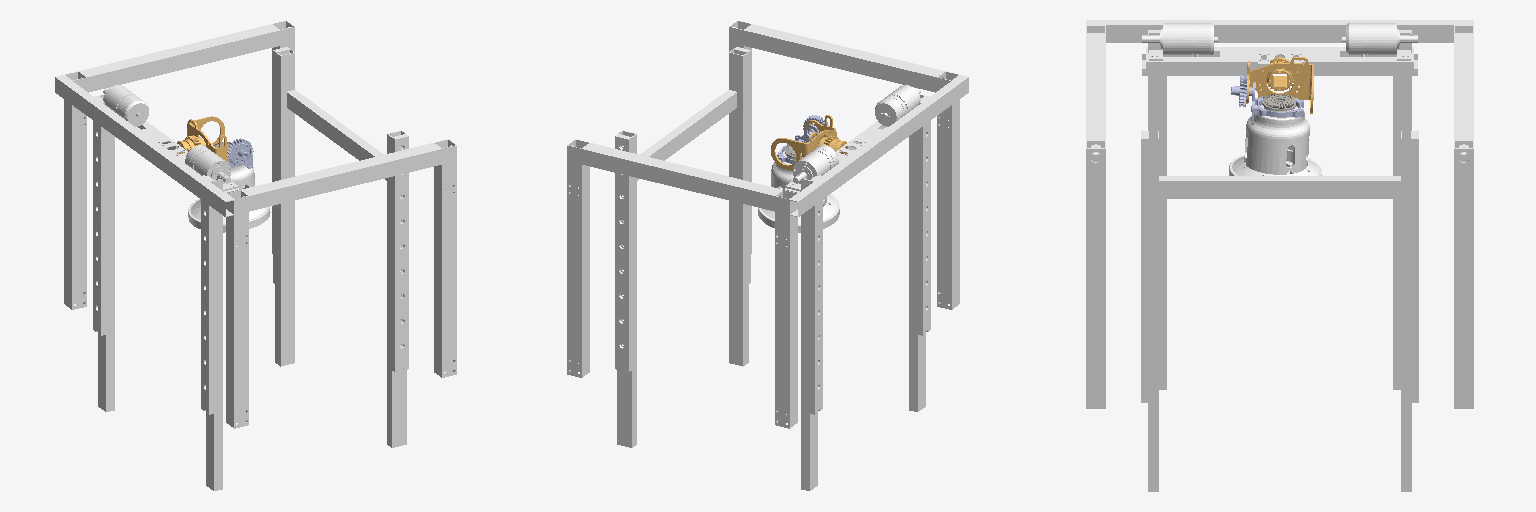
URDF robot description (robot):
<?xml version="1.0" encoding="utf-8" ?>
<!-- This URDF was automatically created by SolidWorks to URDF Exporter! Originally created by [author] ([email redacted]) 
     Commit Version: 1.6.0-4-g7f85cfe  Build Version: 1.6.7995.38578
     For more information, please see http://wiki.ros.org/sw_urdf_exporter -->
<robot name="robot">
    <link name="origin_global">
        <inertial>
            <origin xyz="0 0 0" rpy="0 0 0" />
            <mass value="0.001" />
            <inertia ixx="0" ixy="0" ixz="0" iyy="0" iyz="0" izz="0" />
        </inertial>
    </link>
    <link name="car_lr">
        <inertial>
            <origin xyz="0 0 0" rpy="0 0 0" />
            <mass value="0.001" />
            <inertia ixx="0" ixy="0" ixz="0" iyy="0" iyz="0" izz="0" />
        </inertial>
    </link>
    <joint name="origin_global2car_lr" type="prismatic">
        <origin xyz="-0.044 0 0" rpy="0 0 0" />
        <parent link="origin_global" />
        <child link="car_lr" />
        <axis xyz="0 1 0" />
        <limit lower="-10" upper="10" effort="0" velocity="3" />
        <dynamics damping="0.1" friction="20"/>
    </joint>
    <link name="car_fb">
        <inertial>
            <origin xyz="0 0 0" rpy="0 0 0" />
            <mass value="0.001" />
            <inertia ixx="0" ixy="0" ixz="0" iyy="0" iyz="0" izz="0" />
        </inertial>
    </link>
    <joint name="car_lr2car_fb" type="prismatic">
        <origin xyz="0 0 0" rpy="0 0 0" />
        <parent link="car_lr" />
        <child link="car_fb" />
        <axis xyz="1 0 0" />
        <limit lower="-10" upper="10" effort="0" velocity="3" />
        <dynamics damping="0.1" friction="20"/>
    </joint>
    <link name="car_yaw">
        <inertial>
            <origin xyz="0 0 0" rpy="0 0 0" />
            <mass value="0.001" />
            <inertia ixx="0" ixy="0" ixz="0" iyy="0" iyz="0" izz="0" />
        </inertial>
    </link>
    <joint name="car_fb2car_yaw" type="continuous">
        <origin xyz="0 0 0" rpy="0 0 0" />
        <parent link="car_fb" />
        <child link="car_yaw" />
        <axis xyz="0.0 0.0 -1.0" />
        <limit lower="0" upper="0" effort="0" velocity="0" />
        <dynamics damping="0.1" friction="20"/>
    </joint>
    <link name="base_link">
        <inertial>
            <origin xyz="0.021509 -1.2254E-10 -0.00040386" rpy="0 0 0" />
            <mass value="0.001" />
            <inertia ixx="0.0023256" ixy="-1.2261E-08" ixz="-9.0418E-13" iyy="0.0065804" iyz="1.2224E-13" izz="0.005007" />
        </inertial>
        <visual>
            <origin xyz="0 0 0" rpy="0 0 0" />
            <geometry>
                <mesh filename="package://robot_description5/meshes/base_link.STL" />
            </geometry>
            <material name="">
                <color rgba="0.89804 0.91765 0.92941 1" />
            </material>
        </visual>
        <collision>
            <origin xyz="0 0 0" rpy="0 0 0" />
            <geometry>
                <mesh filename="package://robot_description5/meshes/base_link.STL" />
            </geometry>
        </collision>
    </link>
    <joint name="car_yaw2base_link" type="fixed">
        <origin xyz="0 0 0" rpy="0 0 0" />
        <parent link="car_yaw" />
        <child link="base_link" />
        <axis xyz="0 0 0" />
        <dynamics damping="0.1" friction="20"/>
    </joint>
    <link name="ud_fixed">
        <inertial>
            <origin xyz="-0.1611 -0.17 0.041823" rpy="0 0 0" />
            <mass value="0.001" />
            <inertia ixx="0.0082957" ixy="1.9272E-20" ixz="-1.3866E-08" iyy="0.0081079" iyz="1.3549E-18" izz="0.00023148" />
        </inertial>
        <visual>
            <origin xyz="0 0 0" rpy="0 0 0" />
            <geometry>
                <mesh filename="package://robot_description5/meshes/ud_fixed.STL" />
            </geometry>
            <material name="">
                <color rgba="1 1 1 1" />
            </material>
        </visual>
        <collision>
            <origin xyz="0 0 0" rpy="0 0 0" />
            <geometry>
                <mesh filename="package://robot_description5/meshes/ud_fixed.STL" />
            </geometry>
        </collision>
    </link>
    <joint name="base_link2ud_fixed" type="fixed">
        <origin xyz="0.1817 0.17 0.253" rpy="0 0 0" />
        <parent link="base_link" />
        <child link="ud_fixed" />
        <axis xyz="0 0 0" />
        <dynamics damping="0.1" friction="20"/>
    </joint>
    <link name="ud_move">
        <inertial>
            <origin xyz="-0.21827 -0.249 0.071024" rpy="0 0 0" />
            <mass value="0.001" />
            <inertia ixx="0.0023611" ixy="7.1456E-21" ixz="-1.3757E-20" iyy="0.0021234" iyz="-4.2205E-21" izz="0.0013657" />
        </inertial>
        <visual>
            <origin xyz="0 0 0" rpy="0 0 0" />
            <geometry>
                <mesh filename="package://robot_description5/meshes/ud_move.STL" />
            </geometry>
            <material name="">
                <color rgba="1 1 1 1" />
            </material>
        </visual>
        <collision>
            <origin xyz="0 0 0" rpy="0 0 0" />
            <geometry>
                <mesh filename="package://robot_description5/meshes/ud_move.STL" />
            </geometry>
        </collision>
    </link>
    <joint name="ud_fixed2ud_move" type="prismatic">
        <origin xyz="0.039 0.079 0.07" rpy="0 0 0" />
        <parent link="ud_fixed" />
        <child link="ud_move" />
        <axis xyz="0 0 1" />
        <limit lower="0" upper="0.3" effort="0" velocity="3" />
        <dynamics damping="0.1" friction="20"/>
    </joint>
    <link name="fb_move">
        <inertial>
            <origin xyz="-0.16962 -0.185 -0.018823" rpy="0 0 0" />
            <mass value="0.001" />
            <inertia ixx="0.0005007" ixy="-1.1793E-14" ixz="-8.5853E-08" iyy="5.291E-05" iyz="5.0212E-15" izz="0.00050986" />
        </inertial>
        <visual>
            <origin xyz="0 0 0" rpy="0 0 0" />
            <geometry>
                <mesh filename="package://robot_description5/meshes/fb_move.STL" />
            </geometry>
            <material name="">
                <color rgba="1 1 1 1" />
            </material>
        </visual>
        <collision>
            <origin xyz="0 0 0" rpy="0 0 0" />
            <geometry>
                <mesh filename="package://robot_description5/meshes/fb_move.STL" />
            </geometry>
        </collision>
    </link>
    <joint name="ud_move2fb_move" type="prismatic">
        <origin xyz="-0.175 -0.064 0.192" rpy="0 0 0" />
        <parent link="ud_move" />
        <child link="fb_move" />
        <axis xyz="1 0 0" />
        <limit lower="0" upper="0.3" effort="0" velocity="3" />
        <dynamics damping="0.1" friction="20"/>
    </joint>
    <link name="roll_link">
        <inertial>
            <origin xyz="-0.0079761 0.0020985 -0.0010533" rpy="0 0 0" />
            <mass value="0.001" />
            <inertia ixx="8.5742E-05" ixy="-1.1174E-06" ixz="-1.6213E-06" iyy="3.7862E-05" iyz="1.3618E-06" izz="7.7028E-05" />
        </inertial>
        <visual>
            <origin xyz="0 0 0" rpy="0 0 0" />
            <geometry>
                <mesh filename="package://robot_description5/meshes/roll_link.STL" />
            </geometry>
            <material name="">
                <color rgba="1 0.80784 0.49804 1" />
            </material>
        </visual>
        <collision>
            <origin xyz="0 0 0" rpy="0 0 0" />
            <geometry>
                <mesh filename="package://robot_description5/meshes/roll_link.STL" />
            </geometry>
        </collision>
    </link>
    <joint name="fb_move2roll_link" type="revolute">
        <origin xyz="-0.109 -0.185 -0.0445" rpy="0 0 0" />
        <parent link="fb_move" />
        <child link="roll_link" />
        <axis xyz="-1 0 0" />
        <limit lower="-3.14" upper="3.14" effort="0" velocity="3" />
        <dynamics damping="0.1" friction="20"/>
    </joint>
    <link name="pitch_Link">
        <inertial>
            <origin xyz="0.00023863 -0.0036836 -0.0060035" rpy="0 0 0" />
            <mass value="0.001" />
            <inertia ixx="1.5065E-05" ixy="-1.7625E-08" ixz="-3.3721E-07" iyy="1.8379E-05" iyz="1.4059E-07" izz="2.1065E-05" />
        </inertial>
        <visual>
            <origin xyz="0 0 0" rpy="0 0 0" />
            <geometry>
                <mesh filename="package://robot_description5/meshes/pitch_Link.STL" />
            </geometry>
            <material name="">
                <color rgba="0.79216 0.81961 0.93333 1" />
            </material>
        </visual>
        <collision>
            <origin xyz="0 0 0" rpy="0 0 0" />
            <geometry>
                <mesh filename="package://robot_description5/meshes/pitch_Link.STL" />
            </geometry>
        </collision>
    </link>
    <joint name="roll_link2pitch_link" type="revolute">
        <origin xyz="0.035 -0.031956 0.0016682" rpy="0 0 0" />
        <parent link="roll_link" />
        <child link="pitch_Link" />
        <axis xyz="0 -0.99864 0.05213" />
        <limit lower="0" upper="3.14" effort="0" velocity="3" />
        <dynamics damping="0.1" friction="20"/>
    </joint>
    <link name="yaw_Link">
        <inertial>
            <origin xyz="0.00010063 -0.00010565 -0.0020239" rpy="0 0 0" />
            <mass value="0.001" />
            <inertia ixx="3.7305E-06" ixy="-9.4257E-09" ixz="-1.8056E-07" iyy="3.7314E-06" iyz="1.8957E-07" izz="7.3531E-06" />
        </inertial>
        <visual>
            <origin xyz="0 0 0" rpy="0 0 0" />
            <geometry>
                <mesh filename="package://robot_description5/meshes/yaw_Link.STL" />
            </geometry>
            <material name="">
                <color rgba="0.77647 0.75686 0.73725 1" />
            </material>
        </visual>
        <collision>
            <origin xyz="0 0 0" rpy="0 0 0" />
            <geometry>
                <mesh filename="package://robot_description5/meshes/yaw_Link.STL" />
            </geometry>
        </collision>
    </link>
    <joint name="pitch_link2yaw_link" type="revolute">
        <origin xyz="0.00049592 0.031436 -0.011642" rpy="0 0 0" />
        <parent link="pitch_Link" />
        <child link="yaw_Link" />
        <axis xyz="0.049592 -0.052066 -0.99741" />
        <limit lower="-3.14" upper="3.14" effort="0" velocity="3" />
        <dynamics damping="0.1" friction="20"/>
    </joint>
    <link name="hand">
        <inertial>
            <origin xyz="-0.0019754 0.0022643 0.04645" rpy="0 0 0" />
            <mass value="0.001" />
            <inertia ixx="0.00041044" ixy="1.4842E-06" ixz="4.9661E-06" iyy="0.00041247" iyz="-5.0769E-06" izz="0.00031835" />
        </inertial>
        <visual>
            <origin xyz="0 0 0" rpy="0 0 0" />
            <geometry>
                <mesh filename="package://robot_description5/meshes/hand.STL" />
            </geometry>
            <material name="">
                <color rgba="1 1 1 1" />
            </material>
        </visual>
        <collision>
            <origin xyz="0 0 0" rpy="0 0 0" />
            <geometry>
                <mesh filename="package://robot_description5/meshes/hand.STL" />
            </geometry>
        </collision>
    </link>
    <joint name="yaw_link2hand" type="fixed">
        <origin xyz="0.0053559 -0.0056232 -0.10772" rpy="0 0 0" />
        <parent link="yaw_Link" />
        <child link="hand" />
        <axis xyz="0 0 0" />
        <dynamics damping="0.1" friction="20"/>
    </joint>
    <transmission name="trans_origin_global2car_lr">
        <type>transmission_interface/SimpleTransmission</type>
        <joint name="origin_global2car_lr">
            <hardwareInterface>hardware_interface/EffortJointInterface</hardwareInterface>
        </joint>
        <actuator name="origin_global2car_lr_motor">
            <hardwareInterface>hardware_interface/EffortJointInterface</hardwareInterface>
            <mechanicalReduction>1</mechanicalReduction>
        </actuator>
    </transmission>
    <transmission name="trans_car_lr2car_fb">
        <type>transmission_interface/SimpleTransmission</type>
        <joint name="car_lr2car_fb">
            <hardwareInterface>hardware_interface/PositionJointInterface</hardwareInterface>
        </joint>
        <actuator name="car_lr2car_fb_motor">
            <hardwareInterface>hardware_interface/PositionJointInterface</hardwareInterface>
            <mechanicalReduction>1</mechanicalReduction>
        </actuator>
    </transmission>
    <transmission name="trans_car_fb2car_yaw">
        <type>transmission_interface/SimpleTransmission</type>
        <joint name="car_fb2car_yaw">
            <hardwareInterface>hardware_interface/PositionJointInterface</hardwareInterface>
        </joint>
        <actuator name="car_fb2car_yaw_motor">
            <hardwareInterface>hardware_interface/PositionJointInterface</hardwareInterface>
            <mechanicalReduction>1</mechanicalReduction>
        </actuator>
    </transmission>
    <transmission name="trans_ud_fixed2ud_move">
        <type>transmission_interface/SimpleTransmission</type>
        <joint name="ud_fixed2ud_move">
            <hardwareInterface>hardware_interface/PositionJointInterface</hardwareInterface>
        </joint>
        <actuator name="ud_fixed2ud_move_motor">
            <hardwareInterface>hardware_interface/PositionJointInterface</hardwareInterface>
            <mechanicalReduction>1</mechanicalReduction>
        </actuator>
    </transmission>
    <transmission name="trans_ud_move2fb_move">
        <type>transmission_interface/SimpleTransmission</type>
        <joint name="ud_move2fb_move">
            <hardwareInterface>hardware_interface/PositionJointInterface</hardwareInterface>
        </joint>
        <actuator name="ud_move2fb_move_motor">
            <hardwareInterface>hardware_interface/PositionJointInterface</hardwareInterface>
            <mechanicalReduction>1</mechanicalReduction>
        </actuator>
    </transmission>
    <transmission name="trans_fb_move2roll_link">
        <type>transmission_interface/SimpleTransmission</type>
        <joint name="fb_move2roll_link">
            <hardwareInterface>hardware_interface/PositionJointInterface</hardwareInterface>
        </joint>
        <actuator name="fb_move2roll_link_motor">
            <hardwareInterface>hardware_interface/PositionJointInterface</hardwareInterface>
            <mechanicalReduction>1</mechanicalReduction>
        </actuator>
    </transmission>
    <transmission name="trans_roll_link2pitch_link">
        <type>transmission_interface/SimpleTransmission</type>
        <joint name="roll_link2pitch_link">
            <hardwareInterface>hardware_interface/PositionJointInterface</hardwareInterface>
        </joint>
        <actuator name="roll_link2pitch_link_motor">
            <hardwareInterface>hardware_interface/PositionJointInterface</hardwareInterface>
            <mechanicalReduction>1</mechanicalReduction>
        </actuator>
    </transmission>
    <transmission name="trans_pitch_link2yaw_link">
        <type>transmission_interface/SimpleTransmission</type>
        <joint name="pitch_link2yaw_link">
            <hardwareInterface>hardware_interface/PositionJointInterface</hardwareInterface>
        </joint>
        <actuator name="pitch_link2yaw_link_motor">
            <hardwareInterface>hardware_interface/PositionJointInterface</hardwareInterface>
            <mechanicalReduction>1</mechanicalReduction>
        </actuator>
    </transmission>

    <gazebo>
        <plugin name="gazebo_ros_control" filename="libgazebo_ros_control.so">
            <robotNamespace>/</robotNamespace>
        </plugin>
    </gazebo>


    <link name="base_footprint"/>
    <joint name="footprint2origin_global" type="fixed">
        <parent link="base_footprint" />
        <child link="origin_global" />
        <origin rpy="0 0 0" xyz="0 0 0.1" />
        <axis xyz="0 0 0" />
    </joint>

    <!-- 加入世界坐标系，使其固定 -->
    <link name="world"/>
	<joint name="world2base_footprint" type="fixed">
 		 <parent link="world"/>
		 <child link="base_footprint"/>
	</joint>

</robot>

--- Facts derived from the render (not from the file) ---
The picture shows the robot from 3 angles, left to right: view 1: azimuth 30°, elevation 25°; view 2: azimuth 150°, elevation 25°; view 3: azimuth 270°, elevation 25°; orthographic projection.
Robot: robot — 14 links, 13 joints (3 revolute, 1 continuous, 4 prismatic, 5 fixed); root link world; default pose: all joints at 0.
Visible links, largest first — view 1: ud_move, ud_fixed, fb_move, hand, roll_link, pitch_Link; view 2: ud_move, ud_fixed, fb_move, roll_link, hand; view 3: ud_fixed, ud_move, fb_move, hand, roll_link, pitch_Link.
Boxes of the visible links, box(x1,y1,x2,y2) form: ud_move: box(55, 21, 456, 428); ud_fixed: box(93, 47, 408, 490); fb_move: box(103, 85, 239, 192); hand: box(188, 165, 270, 232); roll_link: box(177, 116, 233, 161); pitch_Link: box(223, 138, 253, 168); ud_move: box(567, 21, 968, 428); ud_fixed: box(615, 47, 930, 490); fb_move: box(784, 85, 920, 192); roll_link: box(771, 115, 846, 170); hand: box(758, 150, 839, 232); ud_fixed: box(1141, 30, 1418, 491); ud_move: box(1086, 20, 1473, 408); fb_move: box(1142, 23, 1417, 75); hand: box(1229, 105, 1321, 175); roll_link: box(1246, 57, 1313, 113); pitch_Link: box(1231, 75, 1303, 124).
Size in the robot's own frame: 0.39 by 0.498 by 0.52 metres.
7 mesh visuals loaded from 8 distinct referenced files (7 binary STL); not drawn: 1 (reference not matched to a file when rendering).
